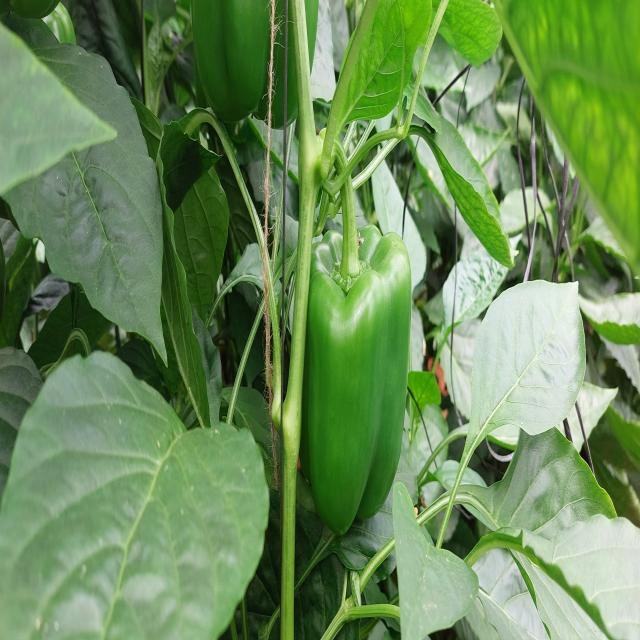Green--Not-ready-to-harvest: (284, 235, 407, 530), (185, 0, 325, 132)
